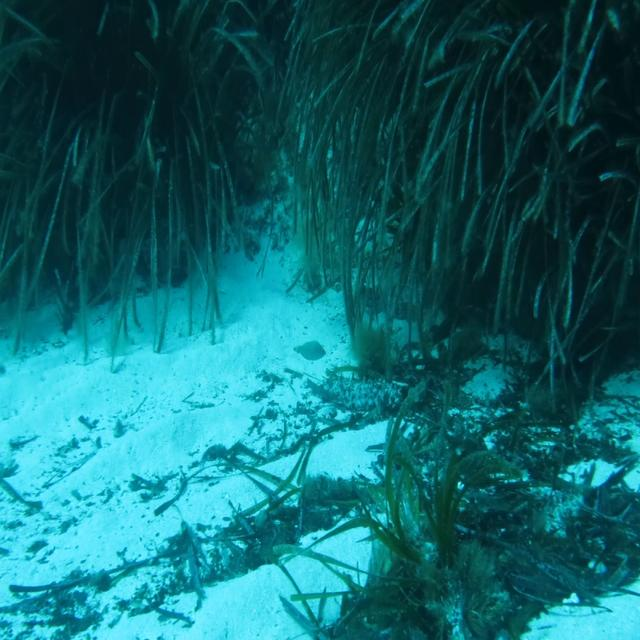SA: (288, 332, 332, 365)
vegetation: (0, 0, 640, 329), (387, 327, 640, 640)
